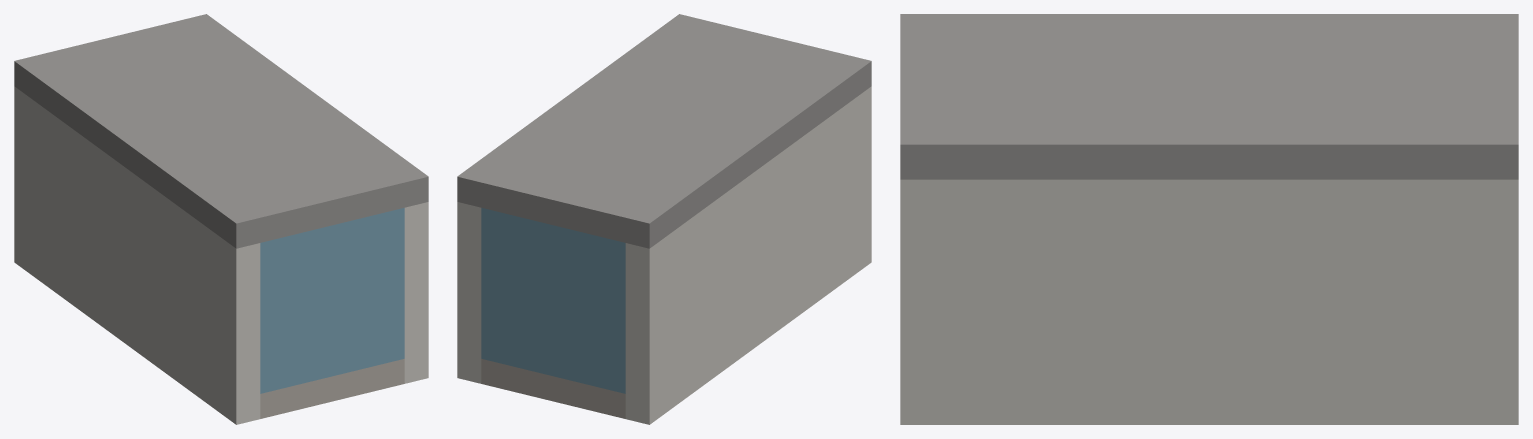
The model's file is flooded-passage.glb.
The picture shows the model from 3 angles, left to right: view 1: azimuth 30°, elevation 25°; view 2: azimuth 150°, elevation 25°; view 3: azimuth 270°, elevation 25°; orthographic projection. The views are drawn at different scales.
Parts seen in each view (by area): view 1: ceiling_1, wall_1, water_1, wall_2, floor_1; view 2: ceiling_1, wall_1, water_1, wall_2, floor_1; view 3: wall_2, ceiling_1.
Boxes of the visible parts, x1,y1,x2,y2 form: ceiling_1: (14, 14, 428, 248); wall_1: (14, 86, 260, 424); water_1: (260, 208, 404, 393); wall_2: (404, 202, 428, 383); floor_1: (260, 359, 404, 418); ceiling_1: (457, 14, 871, 248); wall_1: (625, 86, 871, 424); water_1: (481, 208, 625, 393); wall_2: (457, 202, 481, 383); floor_1: (481, 359, 625, 418); wall_2: (900, 179, 1518, 424); ceiling_1: (900, 14, 1518, 179).
Bounding box in the file's own units: 4 × 4 × 8.
